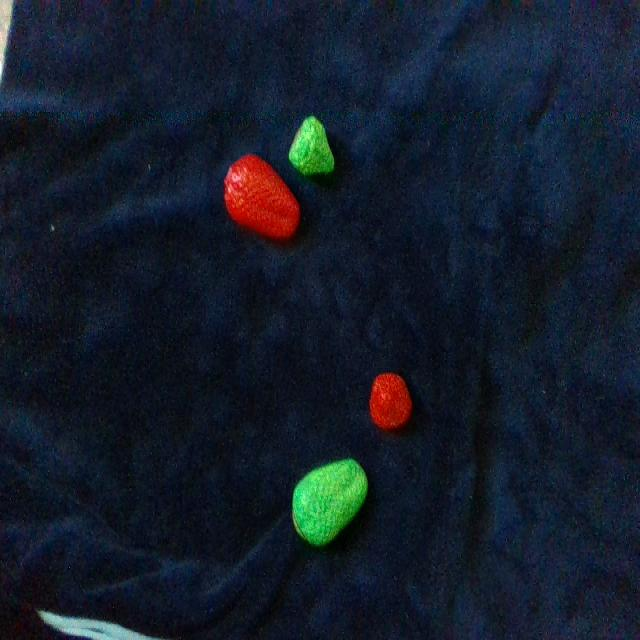chica_roja: (371, 375, 411, 428)
grande_roja: (224, 155, 299, 239)
verde: (293, 459, 367, 545), (289, 116, 334, 175)
